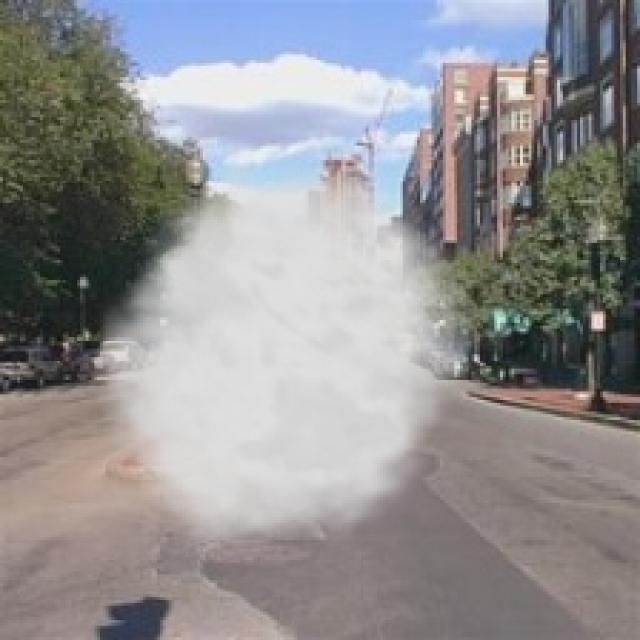smoke: (83, 151, 491, 563)
